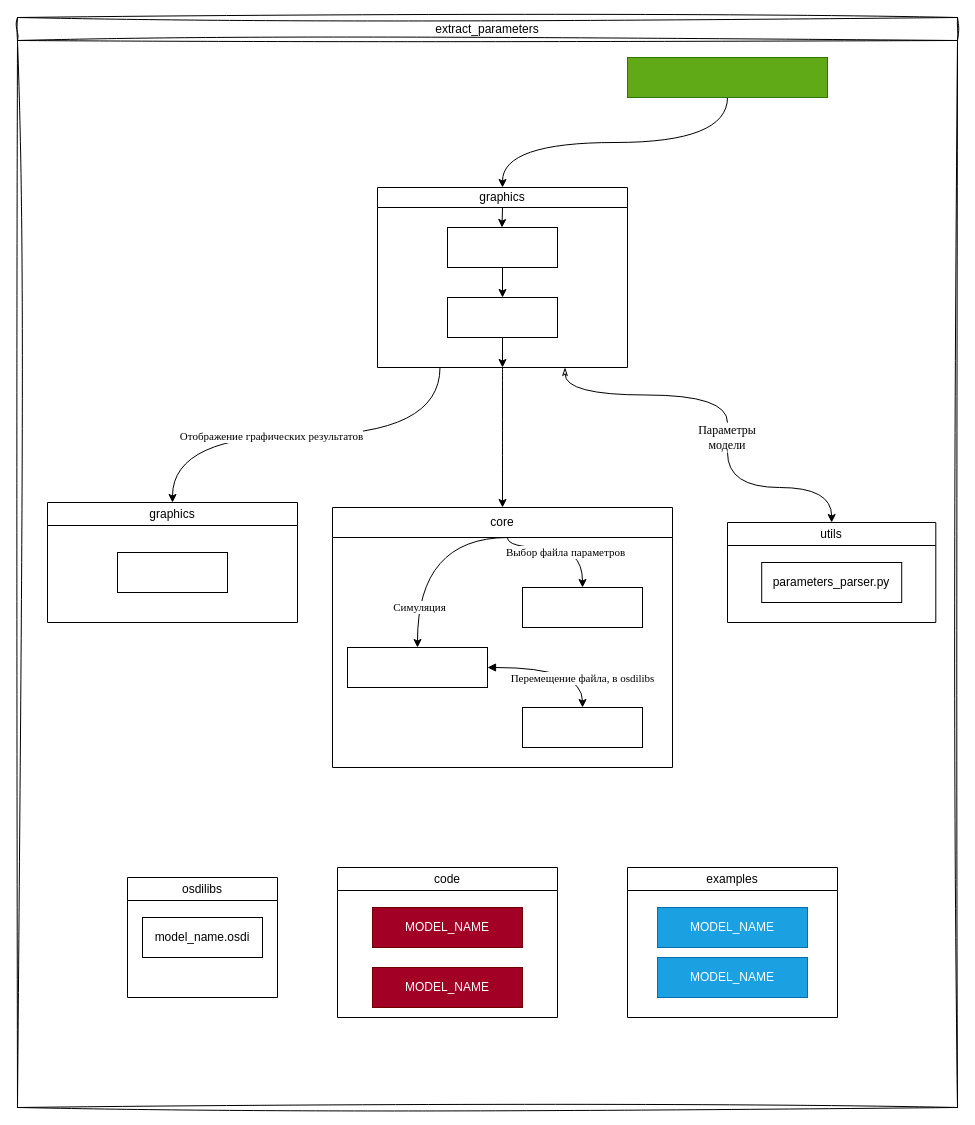
This 975x1125 diagram has some shape labels left out. Each missing label, with the centre of its shape:
file_manager.py: point (582, 607)
handlers.py: point (502, 317)
main.py: point (727, 77)
osdi_manager.py: point (582, 727)
plot_simulation.py: point (172, 572)
simulation_runner.py: point (417, 667)
ui.py: point (502, 247)
